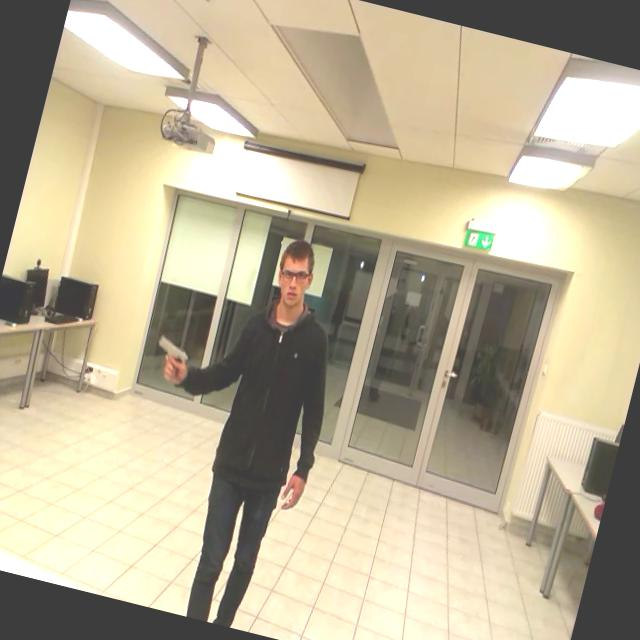handgun: (140, 320, 200, 380)
